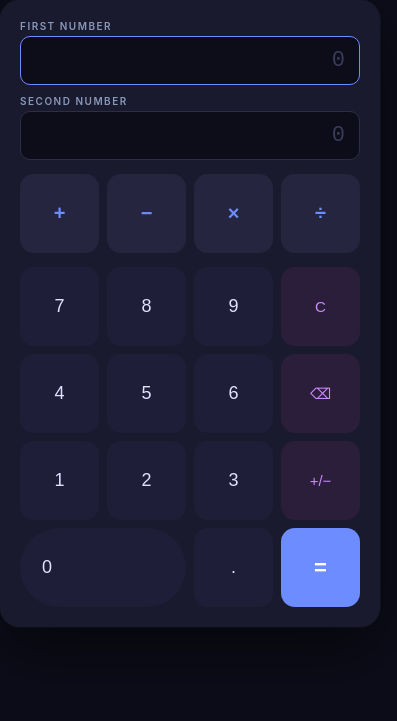
Test: Integration — API error display › renders a generic error when the server sends no structured payload
Type "10" into the field with test id "first-input" at coordinates (190, 60), box [20,36,360,85]
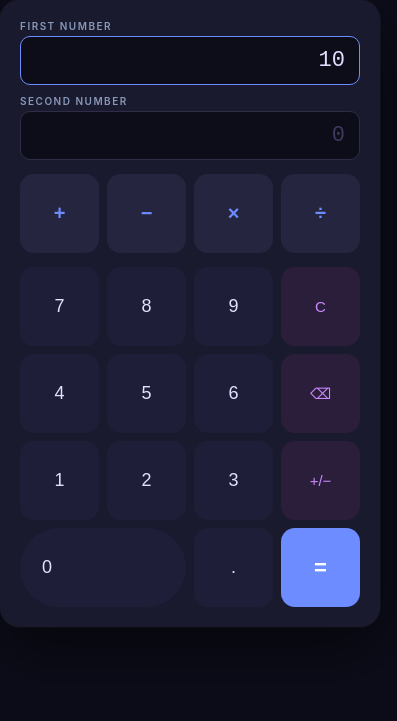
Click the button with test id "op-subtract" at coordinates (146, 214), box [107,174,186,253]
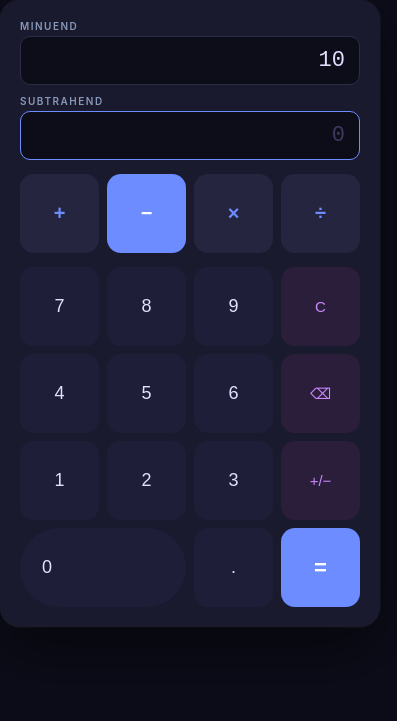
Type "3" into the field with test id "second-input" at coordinates (190, 136), box [20,111,360,160]
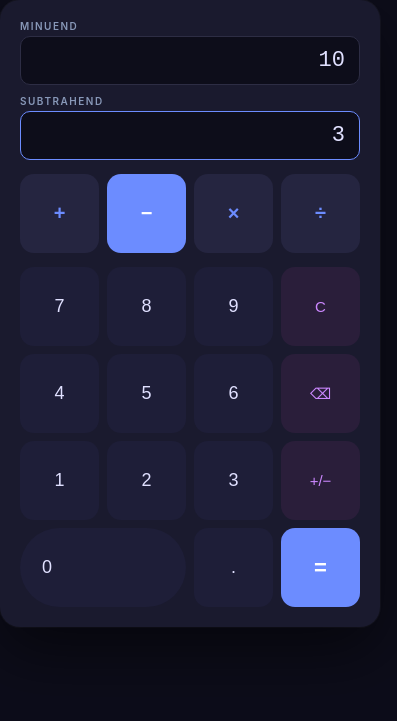
Click the button with test id "equals-btn" at coordinates (320, 568), box [281,528,360,607]
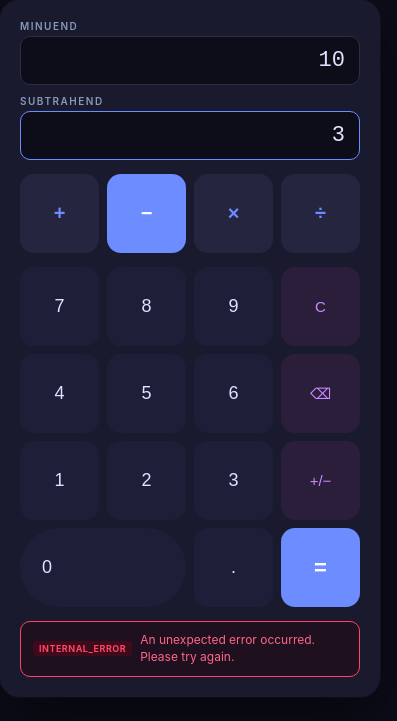
Check: the text "INTERNAL_ERROR" is shown, box [33,641,132,656]
